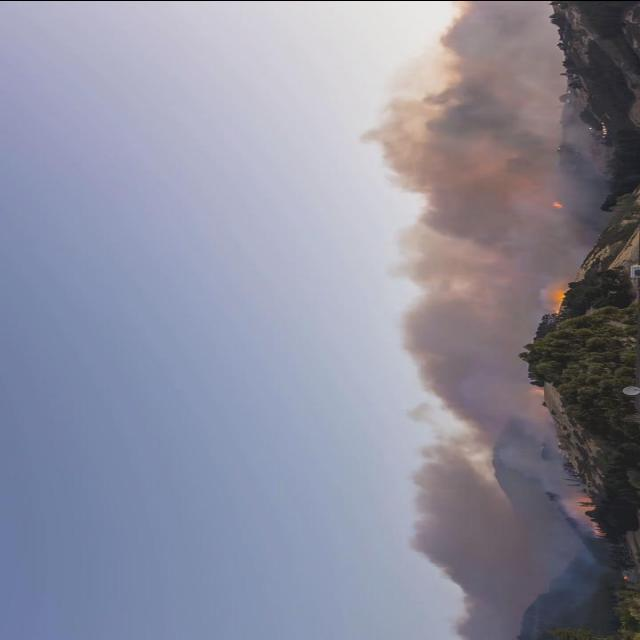Fire: (552, 283, 572, 311), (554, 202, 562, 208)
